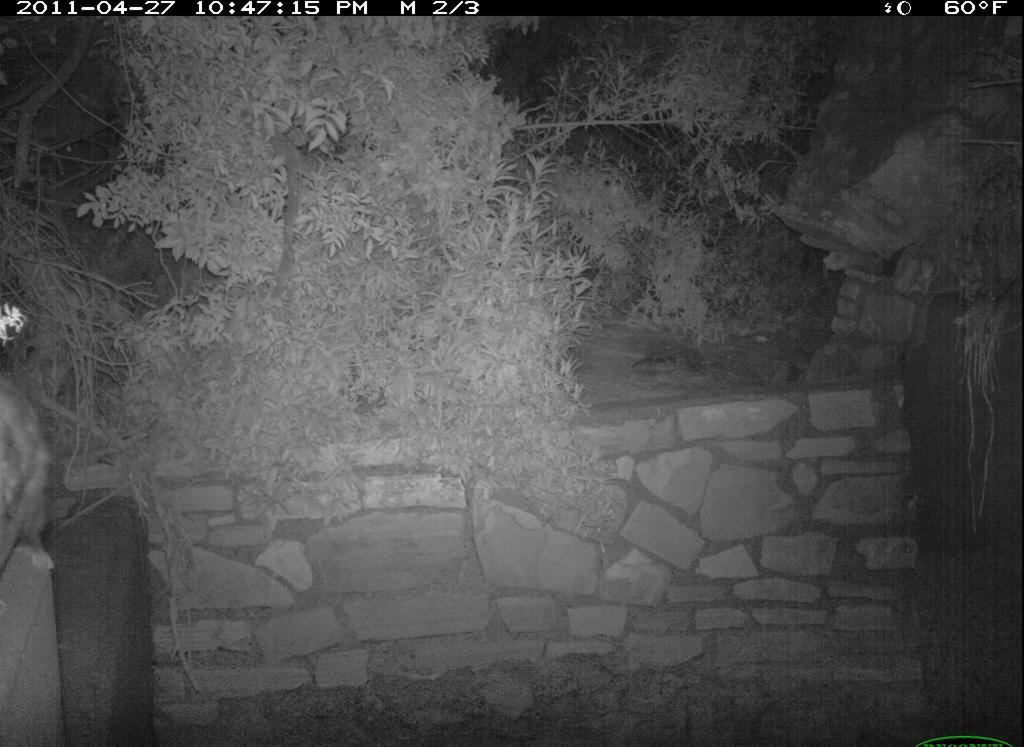opossum: (4, 355, 72, 584)
